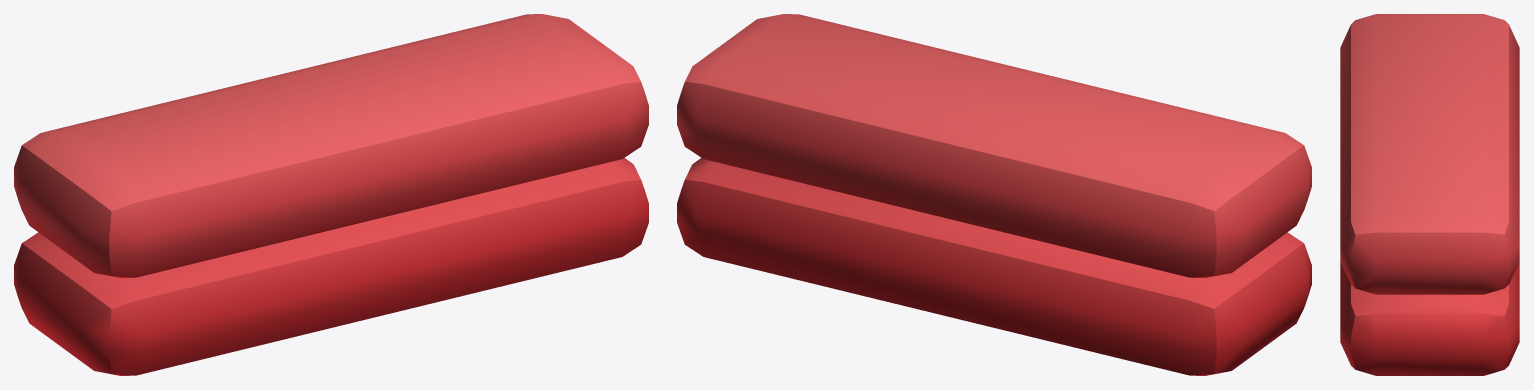
Rendered from barrier_3x1x1_red.glb.
3 views of the same model, side by side, from view 1: azimuth 30°, elevation 25°; view 2: azimuth 150°, elevation 25°; view 3: azimuth 270°, elevation 25° (orthographic). The views are drawn at different scales.
Visible parts, largest first — view 1: barrier_3x1x1_red; view 2: barrier_3x1x1_red; view 3: barrier_3x1x1_red.
Part boxes in pixels (left/top/right/bottom): barrier_3x1x1_red: left=14, top=14, right=648, bottom=375; barrier_3x1x1_red: left=677, top=14, right=1311, bottom=375; barrier_3x1x1_red: left=1340, top=14, right=1519, bottom=375.
Size of the model in its own units: 3 by 1 by 1.
1 material, 1 textured.
